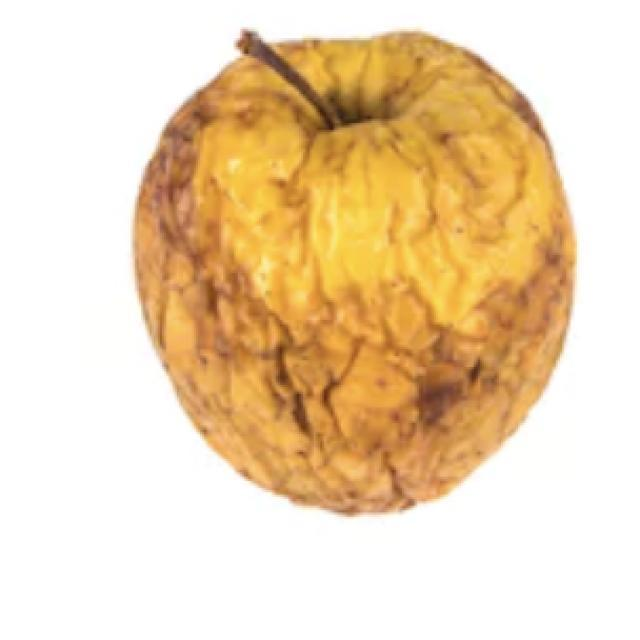Rotten: (125, 28, 578, 520)
